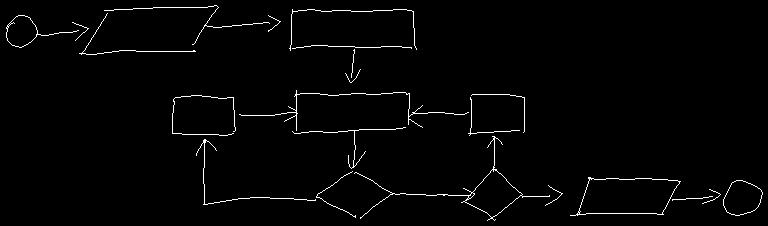arrow: (196, 139, 315, 204), (408, 105, 468, 127), (204, 15, 280, 31), (392, 188, 474, 202), (36, 22, 88, 40), (239, 106, 297, 121), (522, 185, 562, 205), (672, 189, 720, 203), (348, 130, 365, 168), (487, 136, 502, 171), (345, 49, 360, 82)
connection: (723, 180, 762, 215), (6, 15, 37, 47)
data: (79, 5, 218, 54), (570, 177, 680, 215)
decision: (316, 171, 392, 218), (464, 167, 522, 220)
process: (289, 9, 416, 50), (292, 90, 409, 133), (172, 95, 235, 135), (468, 94, 524, 135)
